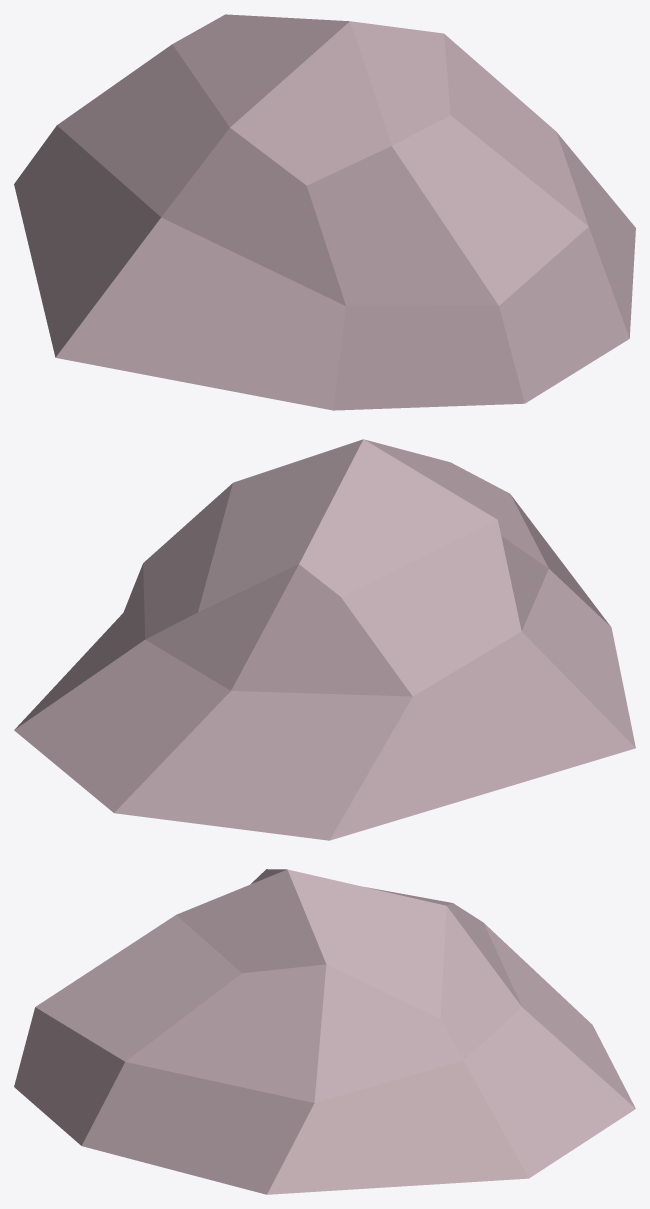
File: a_rock4.fbx
3 views of the same model, one above another, from view 1: azimuth 30°, elevation 25°; view 2: azimuth 150°, elevation 25°; view 3: azimuth 270°, elevation 25° (orthographic). The views are drawn at different scales.
Visible parts, largest first — view 1: pCube1; view 2: pCube1; view 3: pCube1.
Part boxes in pixels (x1,y1,x2,y2): pCube1: (14, 14, 635, 410); pCube1: (14, 439, 635, 840); pCube1: (14, 869, 635, 1194).
Size of the model in its own units: 14.39 by 6.4 by 16.66.
